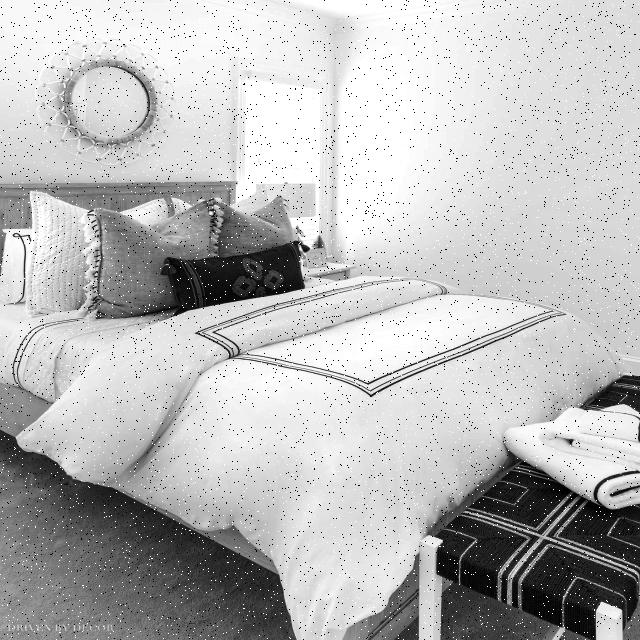bed: (8, 186, 614, 544)
